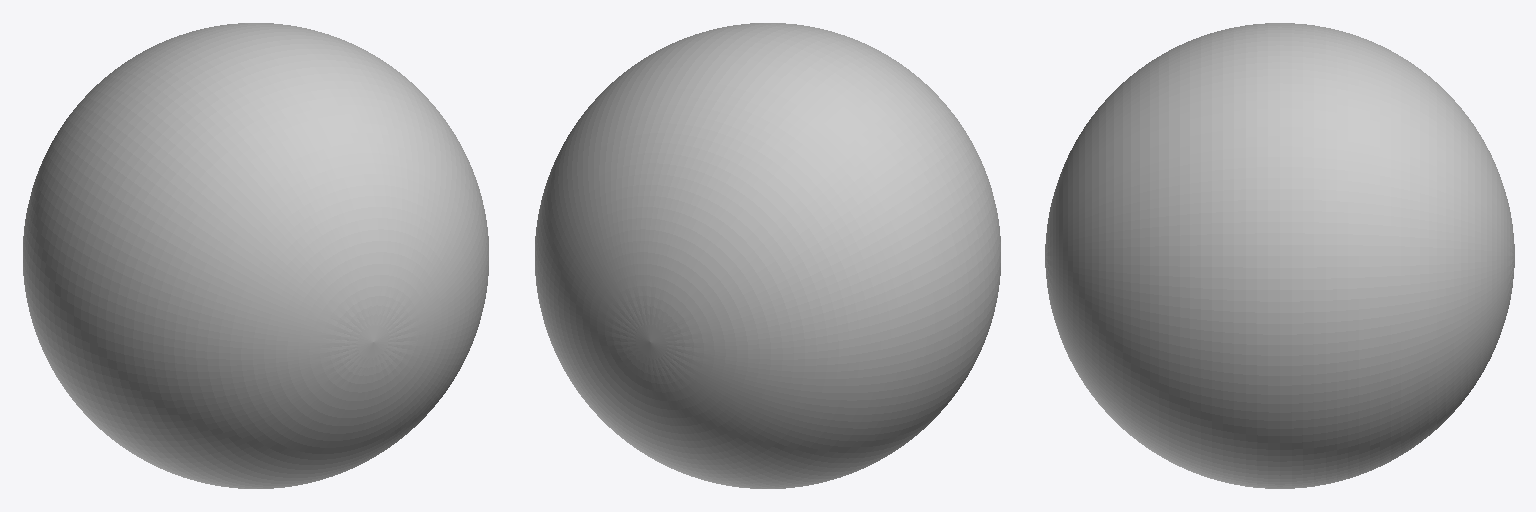
Rendered from sun.obj.
The picture shows the model from 3 angles: view 1: azimuth 30°, elevation 25°; view 2: azimuth 150°, elevation 25°; view 3: azimuth 270°, elevation 25°; orthographic projection.
Parts seen in each view (by area): view 1: 13913_Sun_v2_l3.001; view 2: 13913_Sun_v2_l3.001; view 3: 13913_Sun_v2_l3.001.
Boxes of the visible parts, x1=… form: 13913_Sun_v2_l3.001: x1=23, y1=23, x2=488, y2=488; 13913_Sun_v2_l3.001: x1=535, y1=23, x2=1000, y2=488; 13913_Sun_v2_l3.001: x1=1045, y1=23, x2=1514, y2=488.
Size of the model in its own units: 47.5 by 47.5 by 48.